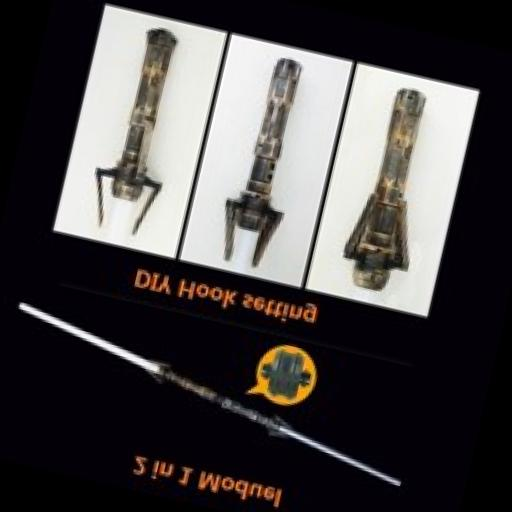lightsaber: (0, 297, 431, 494), (332, 74, 453, 302), (206, 50, 320, 276), (81, 23, 195, 244)
